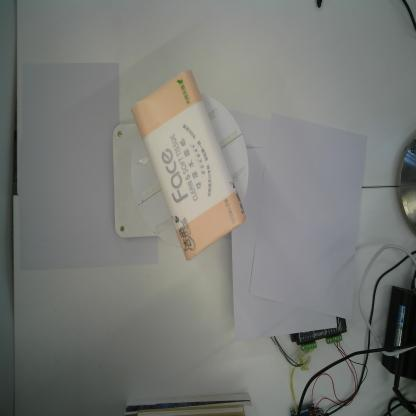Tissue: (130, 69, 247, 261)
